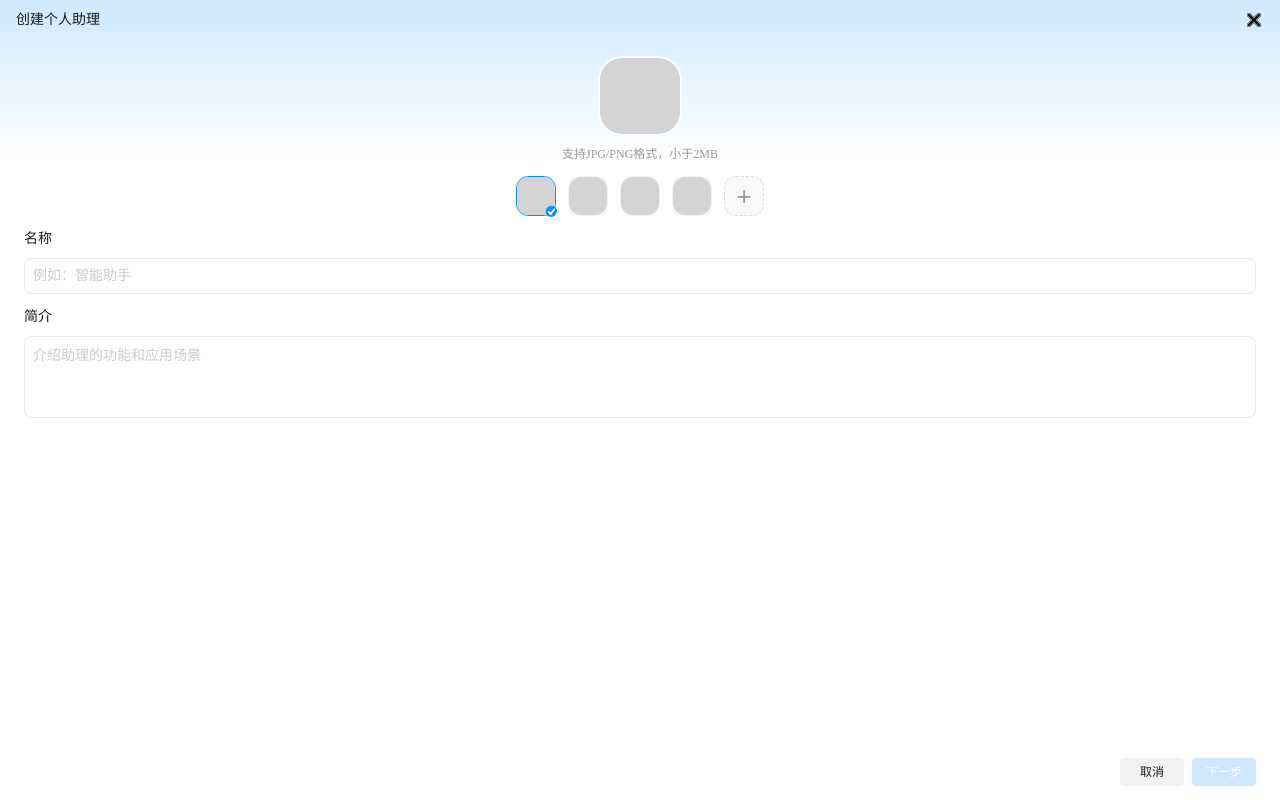
it: StepBasicInfo › disables next button when required fields are empty and enables after filling
This screenshot has width=1280, height=800.
expect the button "下一步" is disabled: met, box [1192, 758, 1256, 786]
Type "智能助手" into the field labelled "名称" at (640, 276), box [24, 258, 1256, 294]
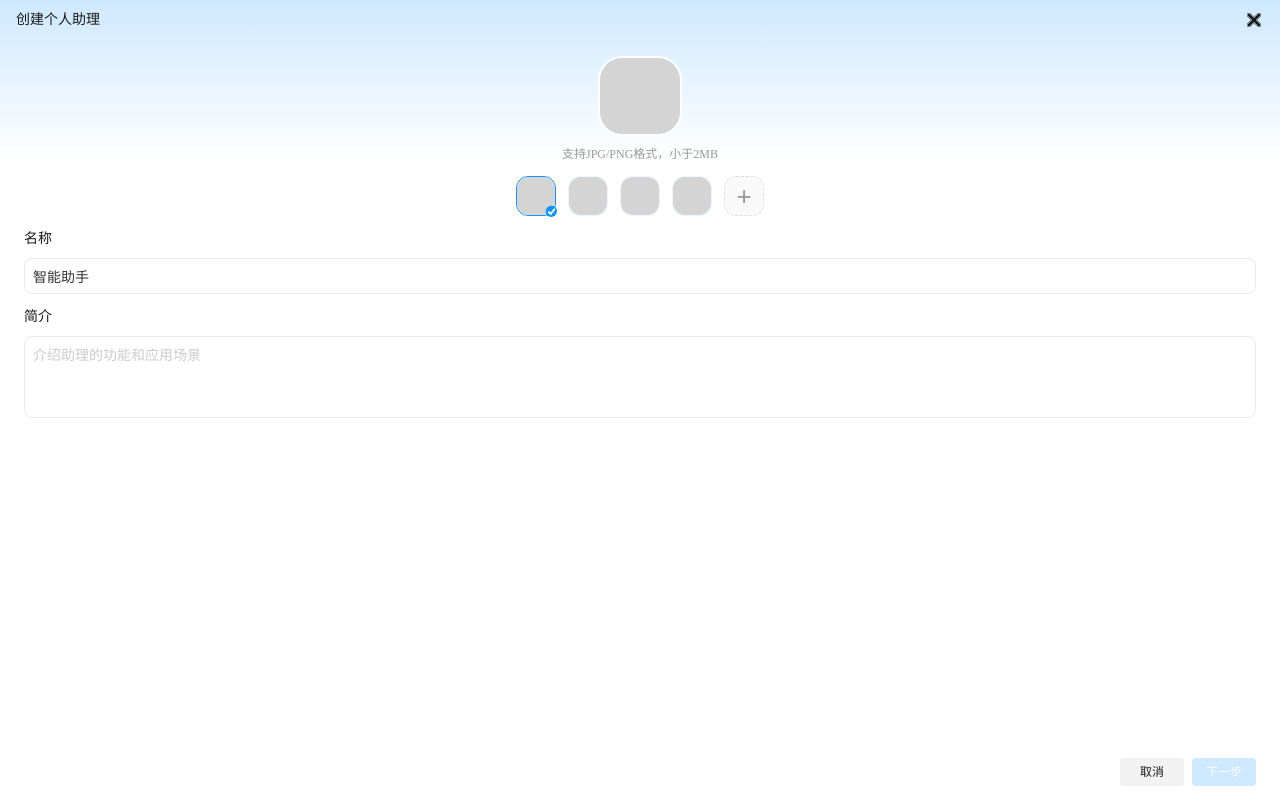
Type "一个可以帮我回答问题的助手" into the text box labelled "简介" at (640, 377), box [24, 336, 1256, 418]
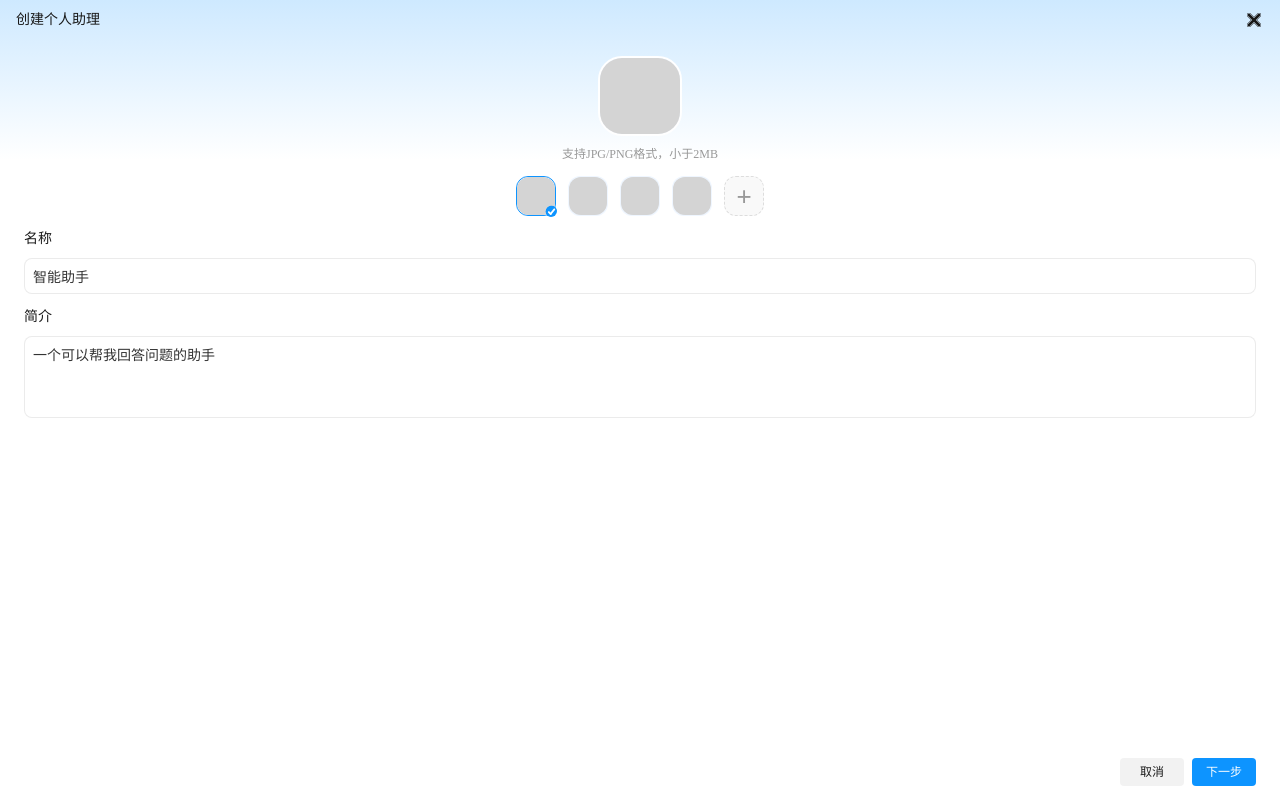
expect the button "下一步" is enabled: met, box [1192, 758, 1256, 786]
